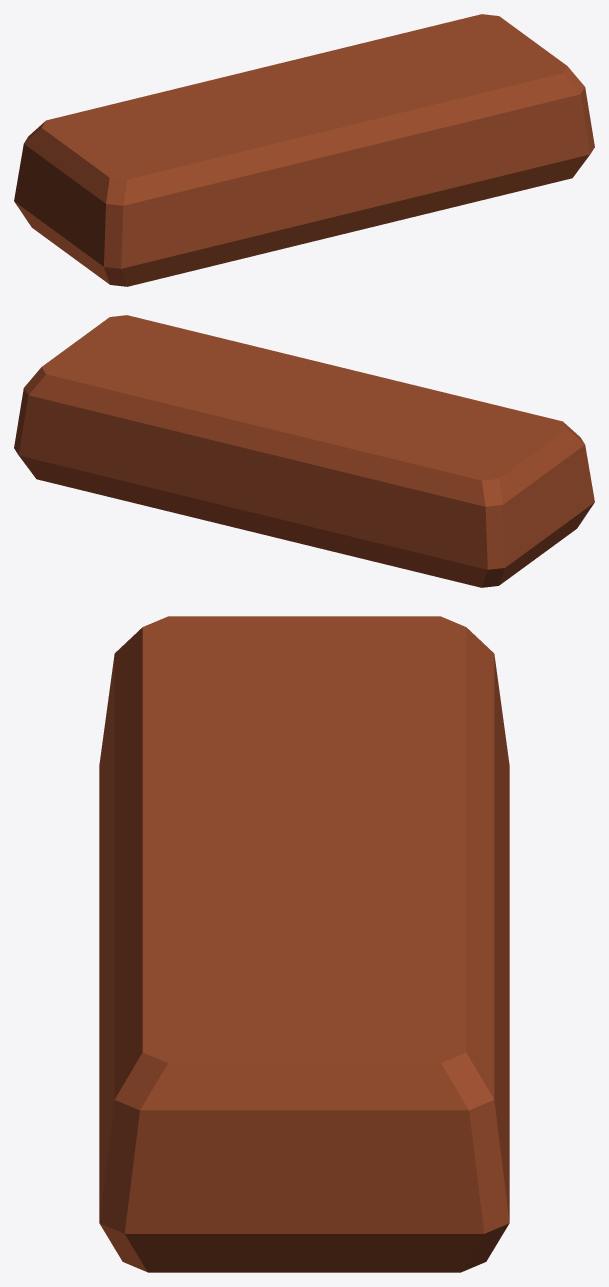
The model's file is BlockClayA.fbx.
3 views of the same model, one above another, from view 1: azimuth 30°, elevation 25°; view 2: azimuth 150°, elevation 25°; view 3: azimuth 270°, elevation 25° (orthographic). The views are drawn at different scales.
Parts seen in each view (by area): view 1: BlockClayA; view 2: BlockClayA; view 3: BlockClayA.
Boxes of the visible parts, box(x1,y1,x2,y2) form: BlockClayA: box(14, 14, 594, 286); BlockClayA: box(14, 315, 594, 587); BlockClayA: box(99, 616, 509, 1272).
Size of the model in its own units: 81.11 by 16.16 by 29.34.
